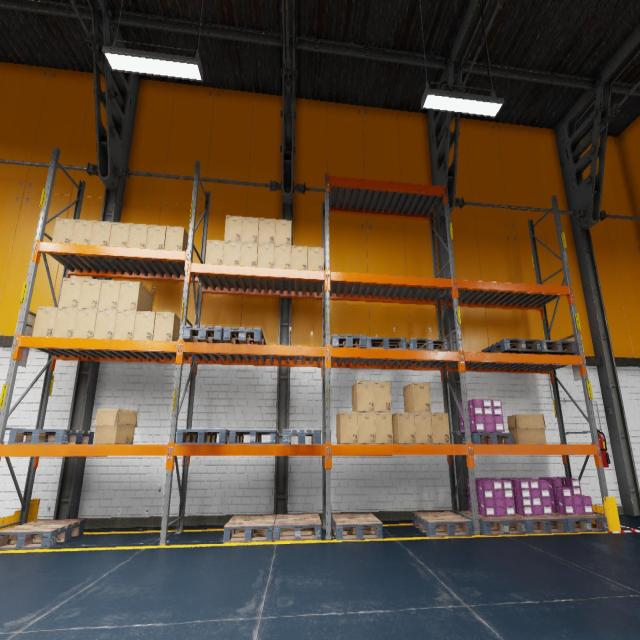box: (93, 408, 137, 444), (508, 414, 546, 444), (118, 281, 154, 311), (164, 226, 193, 256), (403, 382, 431, 412), (153, 312, 180, 341), (32, 306, 58, 336), (392, 412, 416, 444), (58, 277, 82, 308), (336, 411, 358, 444), (78, 278, 102, 308), (73, 309, 97, 338), (53, 308, 77, 337), (98, 280, 121, 310), (352, 381, 374, 412), (93, 310, 117, 338), (133, 311, 156, 340), (114, 310, 136, 340), (432, 412, 451, 444), (414, 412, 433, 444), (375, 412, 393, 444), (358, 412, 376, 444), (90, 220, 112, 246), (52, 217, 74, 243), (71, 219, 93, 244), (374, 381, 391, 412), (109, 222, 130, 246), (146, 224, 166, 249), (128, 223, 148, 248), (241, 216, 259, 243), (225, 215, 242, 242), (205, 240, 224, 264), (222, 241, 240, 266), (275, 220, 292, 246), (258, 218, 275, 244), (240, 242, 258, 266), (274, 244, 291, 269), (257, 243, 274, 267), (291, 245, 307, 270), (307, 247, 324, 270)
pallets: (0, 519, 85, 550), (412, 511, 473, 537), (461, 511, 527, 535), (223, 515, 276, 543), (331, 513, 383, 541), (8, 429, 94, 444), (274, 514, 321, 541), (552, 512, 608, 532), (514, 514, 568, 534), (482, 338, 542, 354), (519, 340, 577, 354), (176, 429, 229, 444), (182, 324, 225, 342), (223, 326, 266, 344), (229, 429, 279, 444), (454, 432, 514, 444), (282, 429, 321, 444), (406, 338, 449, 351), (330, 333, 366, 348), (366, 337, 406, 349)
